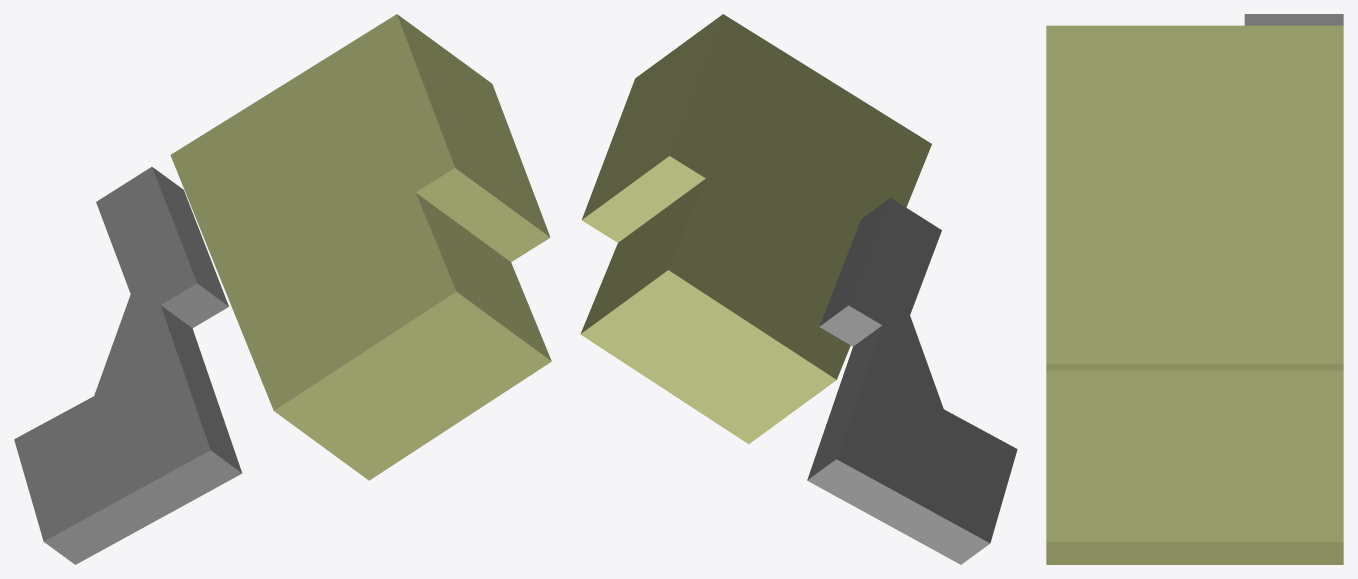
3 views of the same model, side by side, from view 1: azimuth 30°, elevation 25°; view 2: azimuth 150°, elevation 25°; view 3: azimuth 270°, elevation 25° (orthographic). The views are drawn at different scales.
Visible parts, largest first — view 1: 0_1_0_2_0_2_0_0_3_1; view 2: 0_1_0_2_0_2_0_0_3_1; view 3: 0_1_0_2_0_2_0_0_3_1.
Part boxes in pixels (x1=…): 0_1_0_2_0_2_0_0_3_1: x1=14, y1=14, x2=551, y2=564; 0_1_0_2_0_2_0_0_3_1: x1=580, y1=14, x2=1017, y2=564; 0_1_0_2_0_2_0_0_3_1: x1=1046, y1=14, x2=1343, y2=564.
Bounding box in the file's own units: 24.09 × 22.97 × 9.
